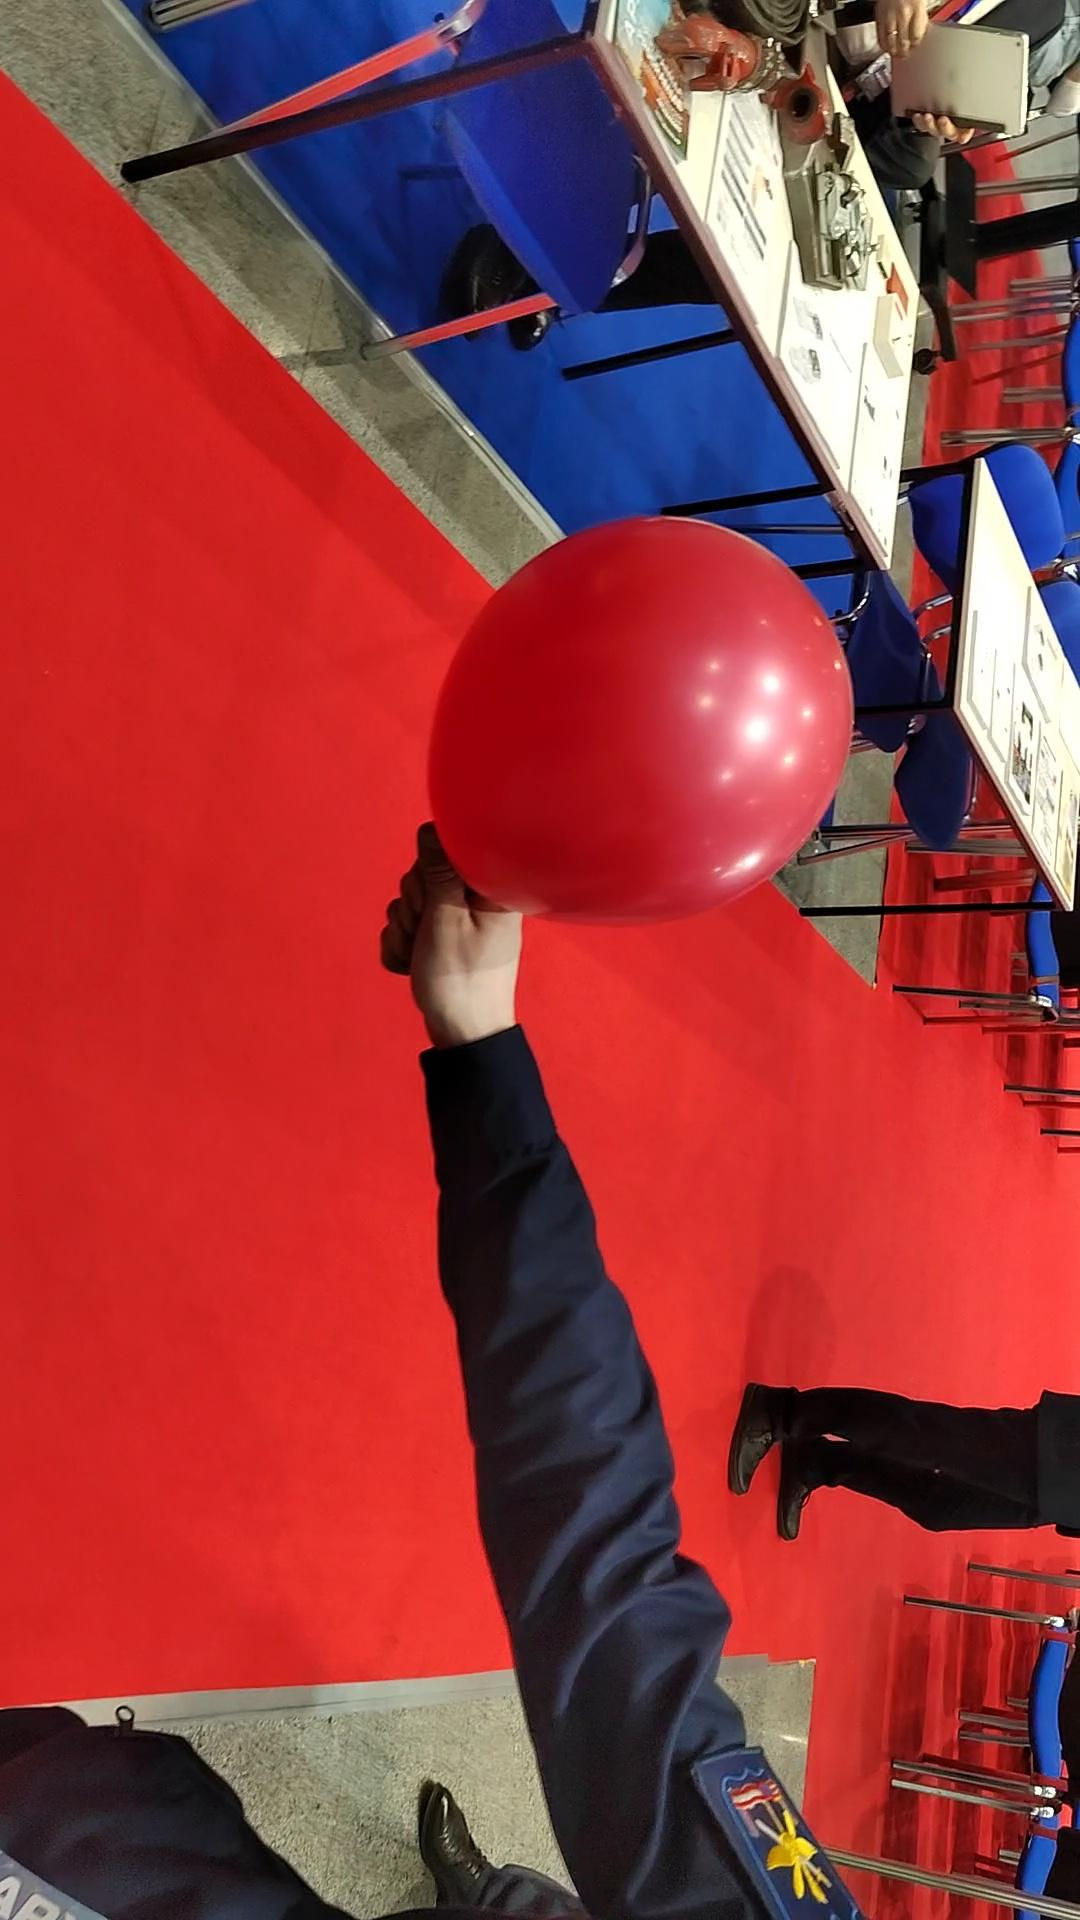red: (419, 510, 870, 938)
